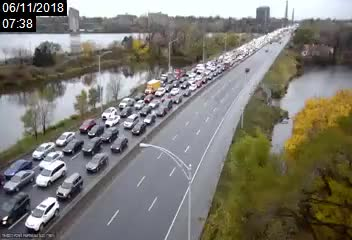congestion: (1, 122, 113, 231), (86, 99, 153, 141), (131, 77, 191, 107), (175, 65, 220, 84), (203, 58, 231, 70)
personal_car: (1, 187, 30, 225), (28, 197, 60, 230), (56, 173, 84, 199), (38, 164, 66, 186), (6, 171, 36, 191), (40, 150, 67, 168), (5, 158, 32, 175), (86, 153, 110, 172), (33, 140, 55, 159), (83, 136, 103, 154), (64, 139, 83, 156), (56, 129, 75, 146), (99, 127, 119, 142), (111, 135, 128, 152), (79, 119, 97, 132), (104, 114, 121, 127), (132, 120, 146, 135), (124, 113, 138, 128), (102, 106, 119, 118), (119, 96, 134, 108), (88, 125, 103, 137), (144, 113, 158, 125), (134, 98, 145, 110), (121, 106, 132, 118), (148, 97, 159, 108), (163, 99, 173, 111), (157, 105, 167, 116), (144, 92, 155, 102), (155, 86, 164, 98), (134, 92, 146, 100), (182, 88, 191, 97), (164, 82, 172, 92), (172, 95, 182, 103), (180, 81, 189, 89), (170, 87, 179, 95), (189, 83, 197, 91), (200, 77, 207, 84), (187, 78, 195, 84), (172, 80, 180, 86), (195, 74, 202, 80), (179, 77, 186, 82), (189, 73, 197, 77)
truck: (160, 69, 186, 82), (145, 80, 160, 94)
